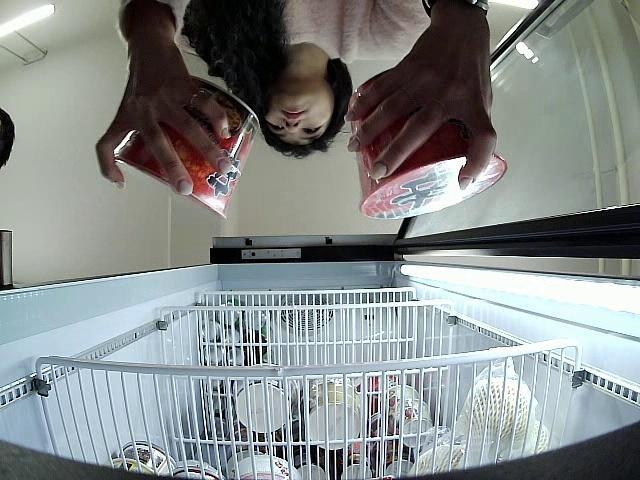01_ShinRamen_L: (350, 80, 510, 220), (118, 76, 260, 222)
